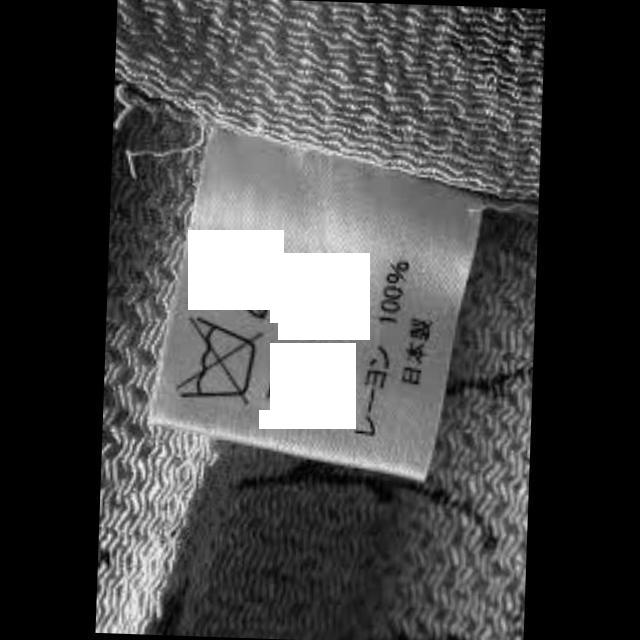DN_wash: (172, 310, 269, 409)
